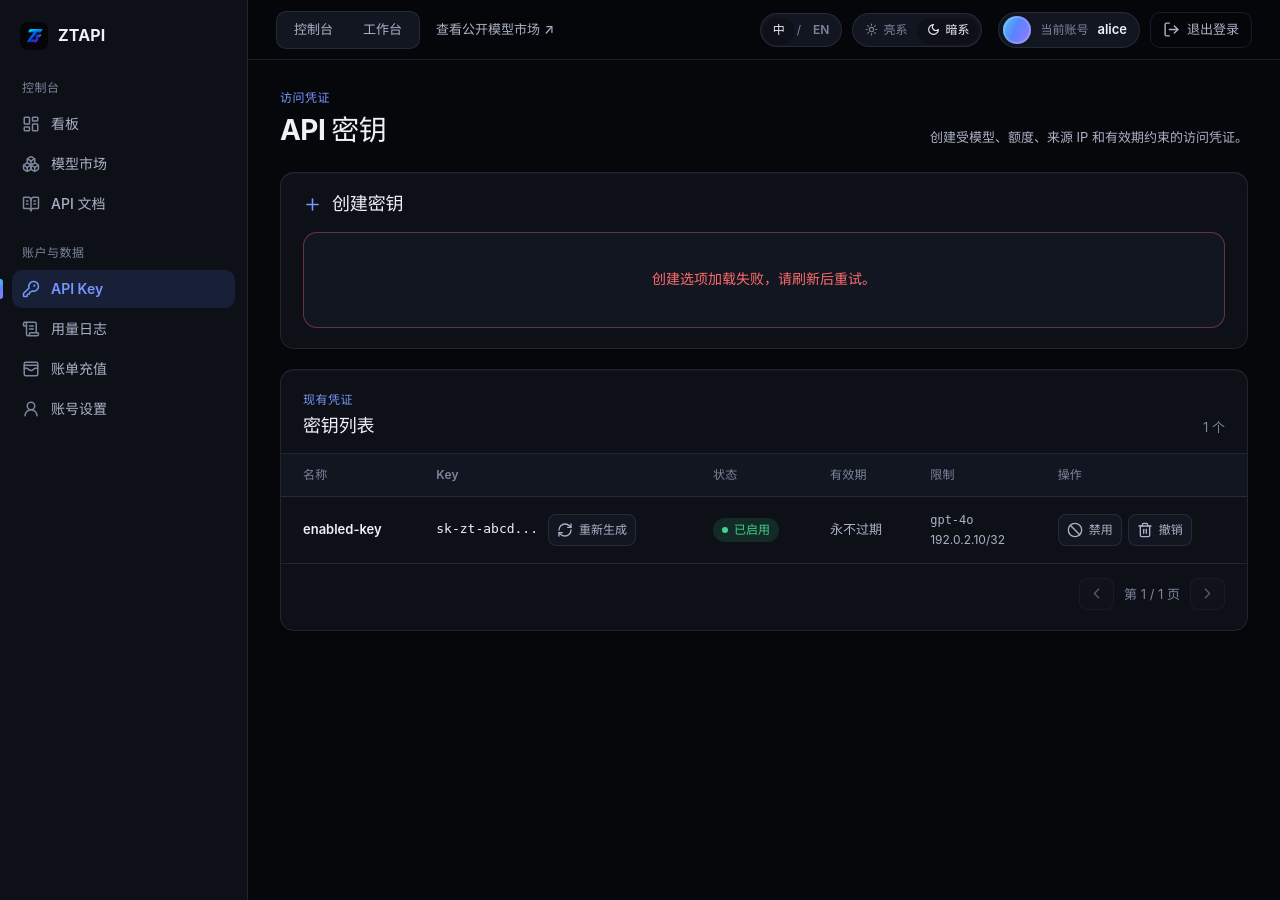
ZTAPI one-time API keys › keeps token revocation available when pricing creation metadata fails
Expected: the text "创建选项加载失败，请刷新后重试。" is shown, [303,232,1225,328]
Expected: the text "enabled-key" is shown, [303,521,382,537]
Click the button "撤销" at (1160, 530), box [1128,514,1192,546]
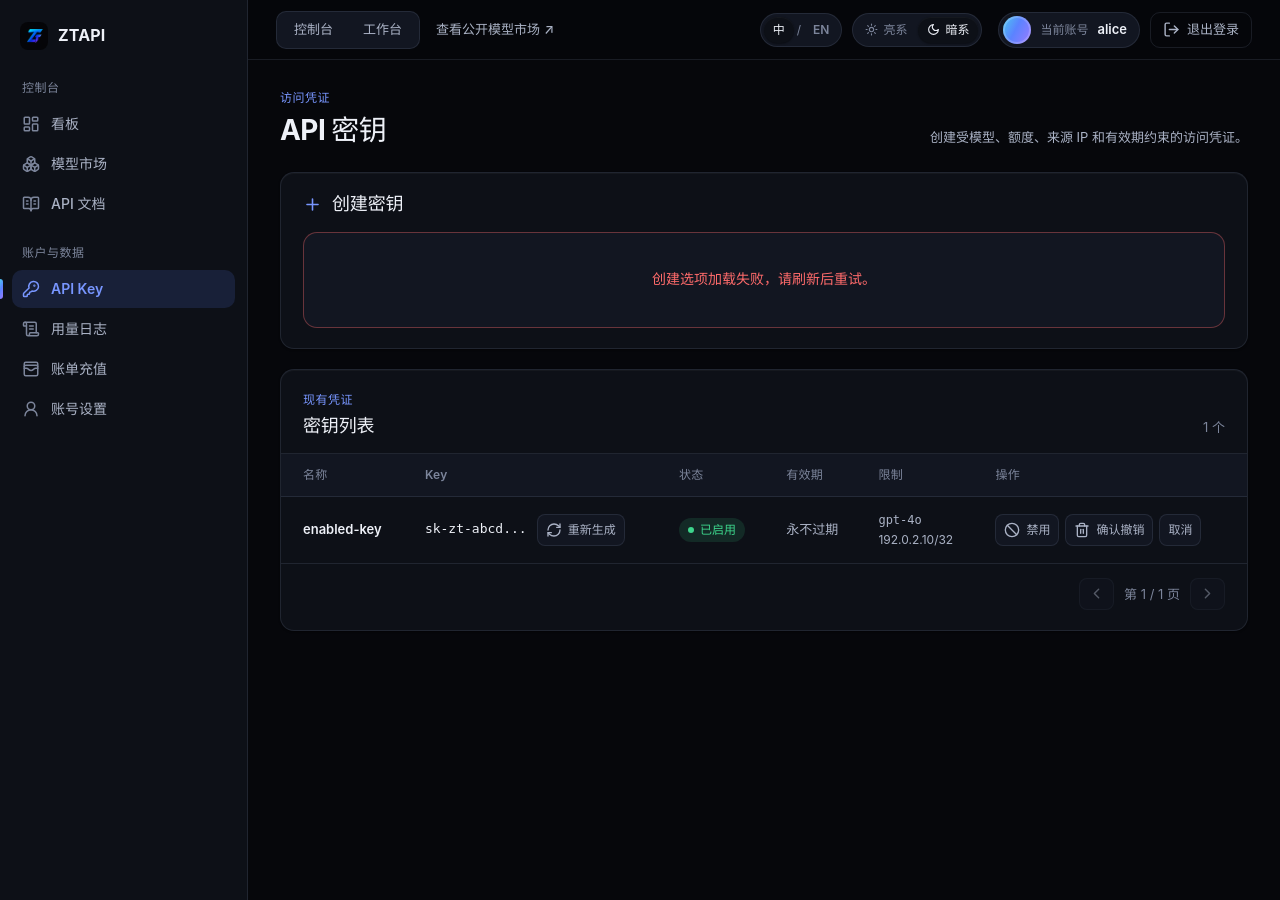
Click the button "确认撤销" at (1110, 530), box [1066,514,1154,546]
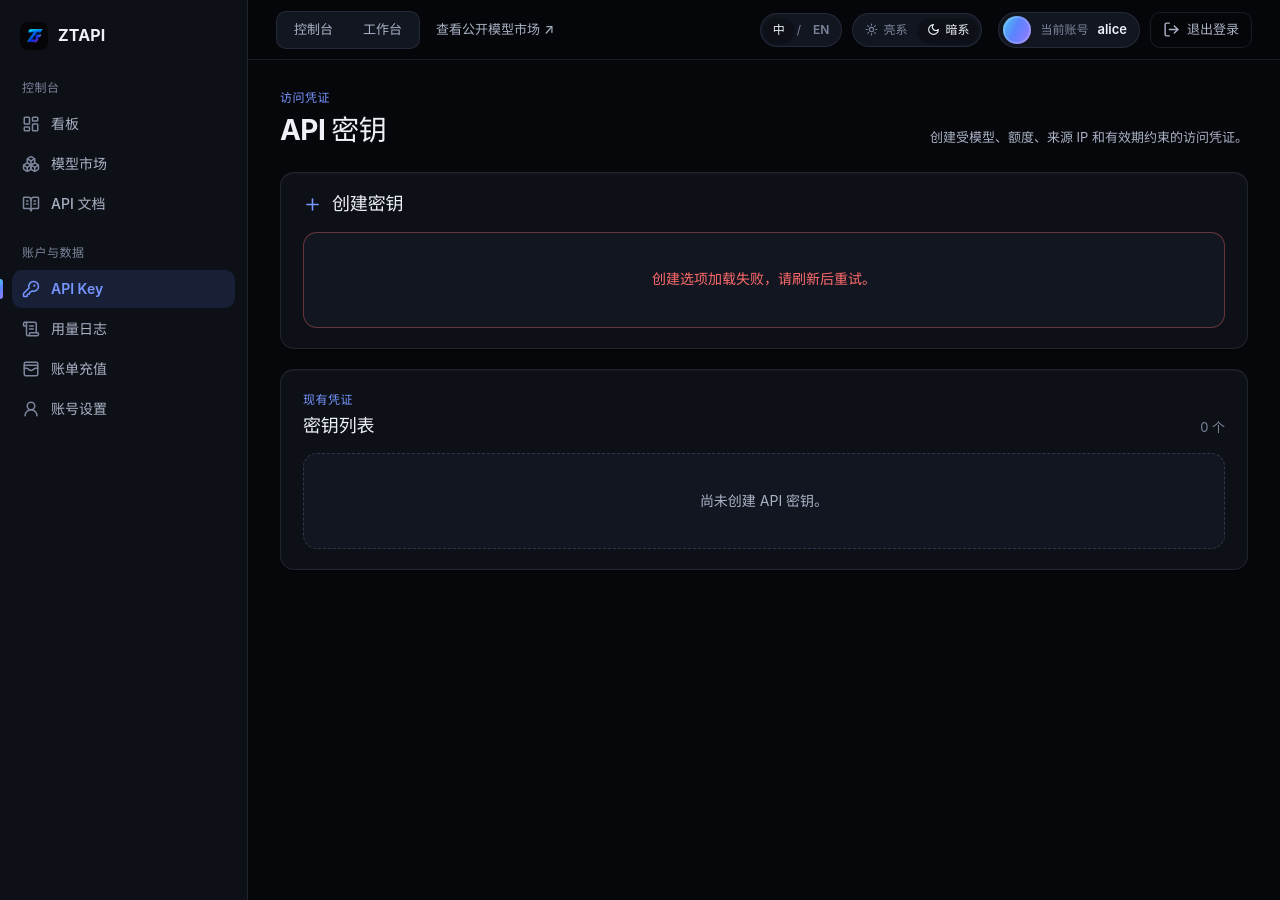
Expected: the text "enabled-key" is gone
